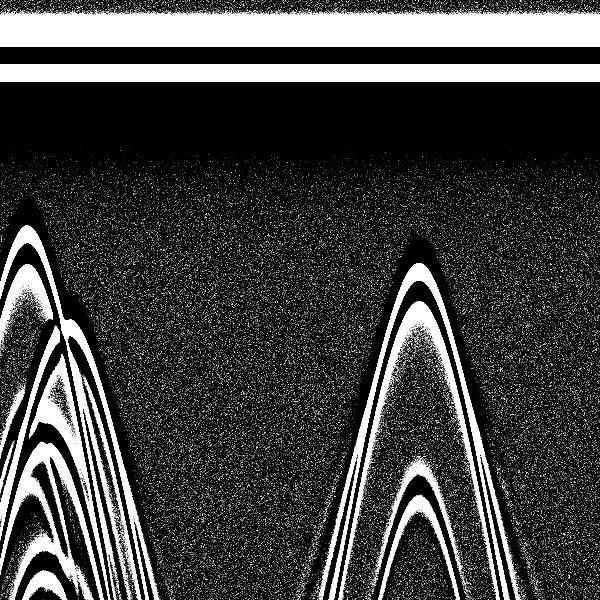pipe: (26, 5, 116, 393), (368, 5, 468, 340), (1, 6, 70, 305)
